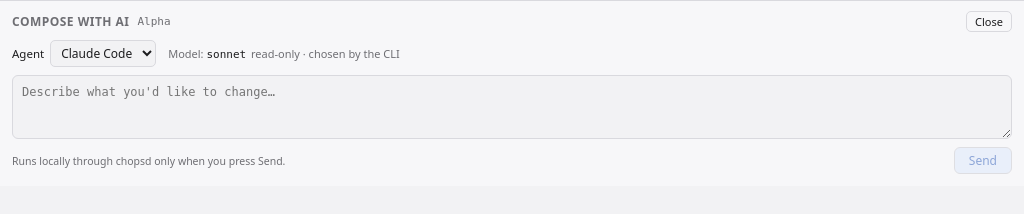
Scenario: ComposePanel (T16 part B) › surfaces send failures and re-enables Send
The width and height of the screenshot is (1024, 214).
Type "Tighten the wording" into the text box named "Compose prompt". click: (512, 107)
box: [12,75,1012,139]
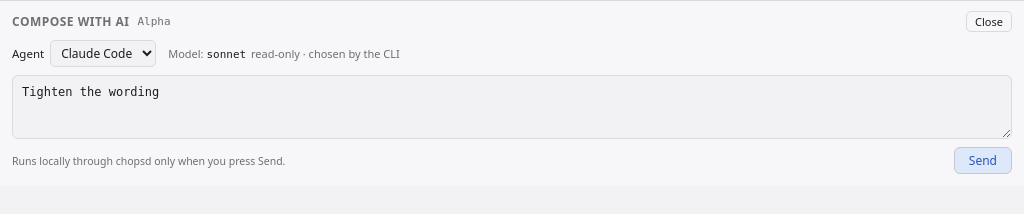
Click the button "Send". click: click(983, 160)
box: [954,147,1012,174]
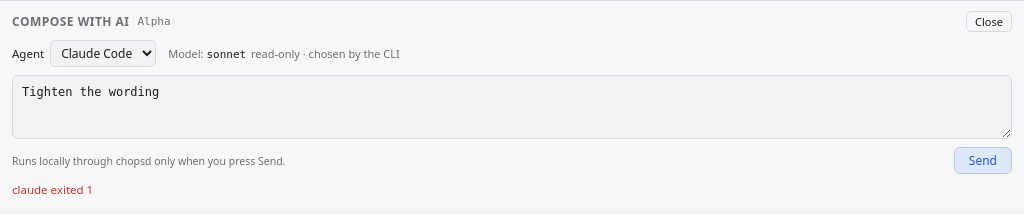
expect the button "Send" is enabled: met, box [954,147,1012,174]
expect the text "claude exited 1" is shown: met, box [12,182,93,197]
